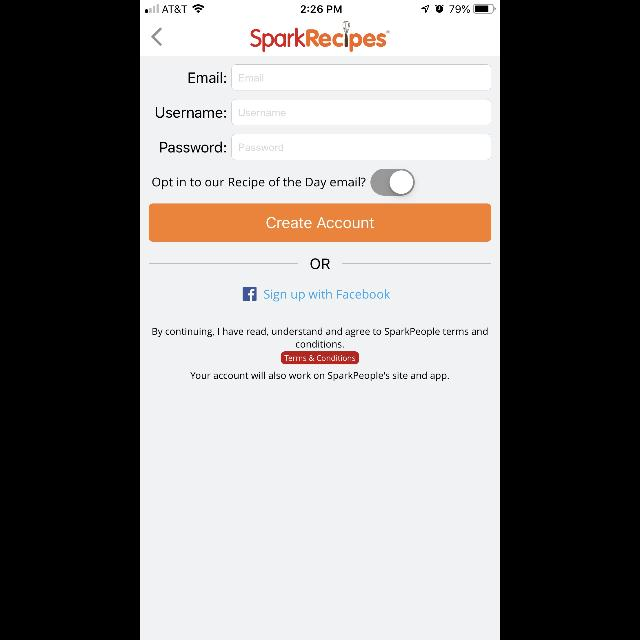icon: (243, 287, 257, 301), (152, 28, 162, 46)
image: (250, 22, 390, 52)
input: (231, 134, 491, 160), (231, 99, 491, 125), (231, 65, 491, 91)
switch: (371, 168, 415, 196)
text: (152, 328, 488, 348), (191, 371, 449, 381), (152, 177, 366, 189), (264, 290, 390, 302), (156, 108, 226, 119), (160, 142, 226, 152), (188, 72, 226, 84), (239, 144, 283, 152), (238, 110, 286, 116), (310, 258, 330, 268), (239, 74, 263, 82)
textbutton: (149, 204, 491, 242), (281, 352, 359, 364)
uppertaskbar: (140, 0, 500, 14)
